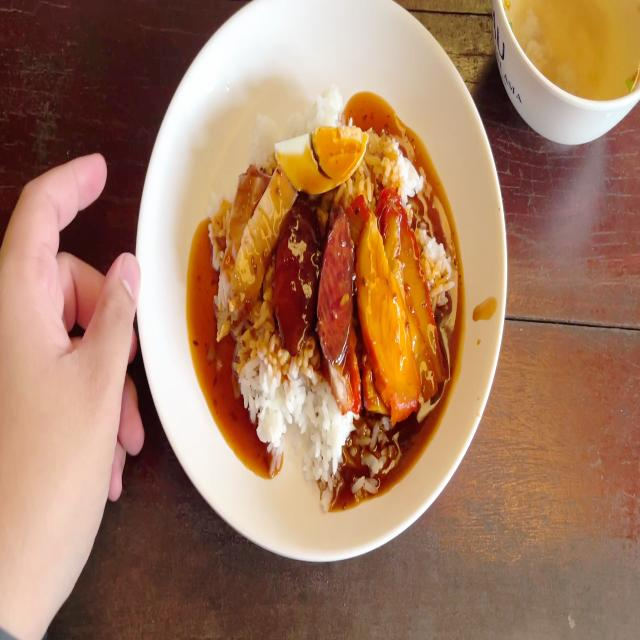boiled_egg: (273, 126, 368, 186)
chainese_sausage: (269, 200, 352, 359), (273, 212, 321, 340), (319, 218, 353, 353)
crispy_pork: (220, 159, 282, 334), (226, 178, 286, 322)
red_pork: (358, 185, 438, 408), (359, 204, 405, 410), (391, 190, 436, 374)
red_pork_and_crispy_pork: (211, 79, 453, 508)
rice: (245, 345, 302, 456), (300, 386, 340, 494), (368, 123, 423, 197), (304, 86, 354, 132), (251, 113, 282, 160)
